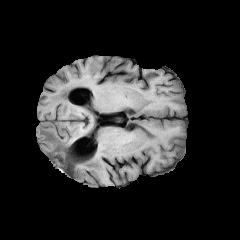glioma: (39, 88, 110, 175)
